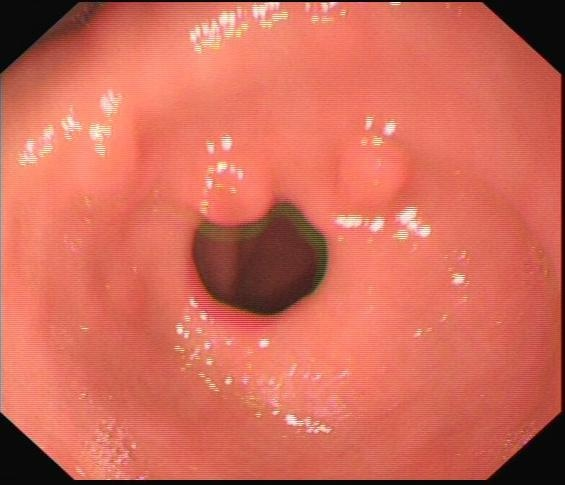Polyp: (170, 141, 286, 230), (319, 118, 421, 216)
